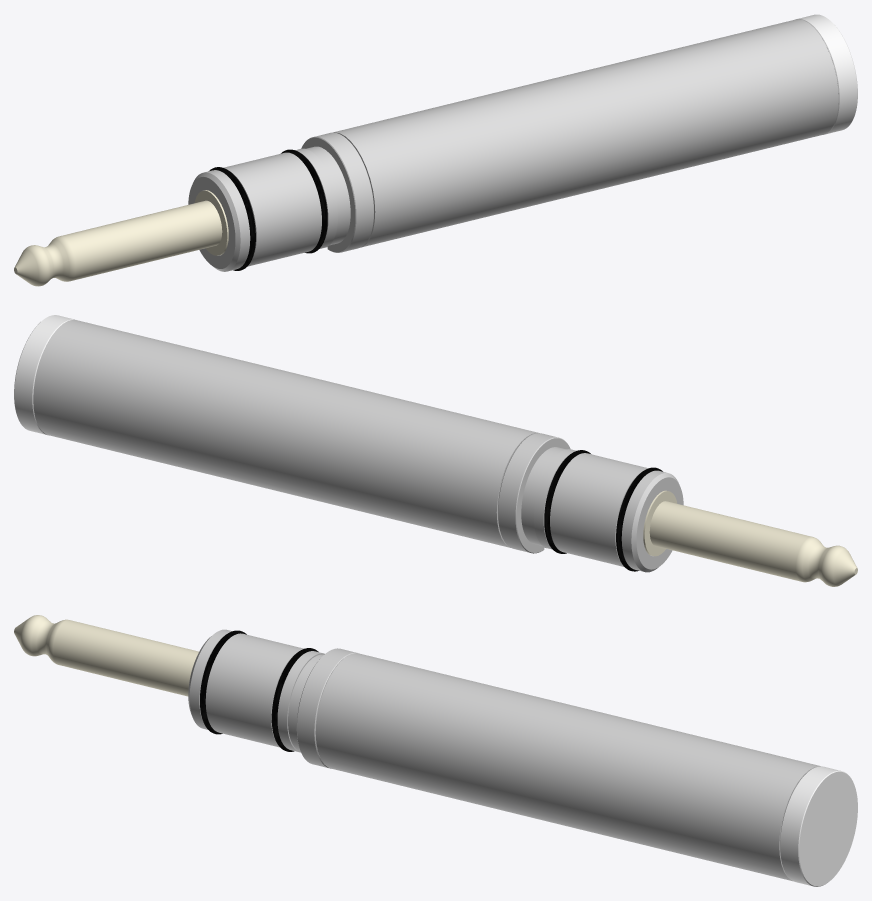
File: End.glb
3 views of the same model, one above another, from view 1: azimuth 30°, elevation 25°; view 2: azimuth 150°, elevation 25°; view 3: azimuth 330°, elevation 25° (orthographic).
Parts seen in each view (by area): view 1: Body1.238; view 2: Body1.238; view 3: Body1.238.
Boxes of the visible parts, bbox=[...] form: Body1.238: bbox=[14, 14, 857, 286]; Body1.238: bbox=[14, 315, 857, 586]; Body1.238: bbox=[14, 615, 857, 886].
Bounding box in the file's own units: 1.26 × 0.16 × 0.16.
